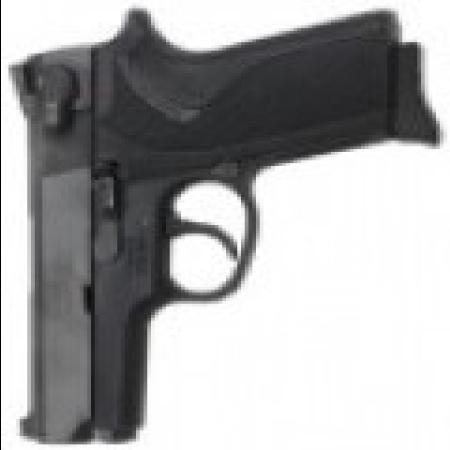Pistol: (3, 14, 438, 442)
